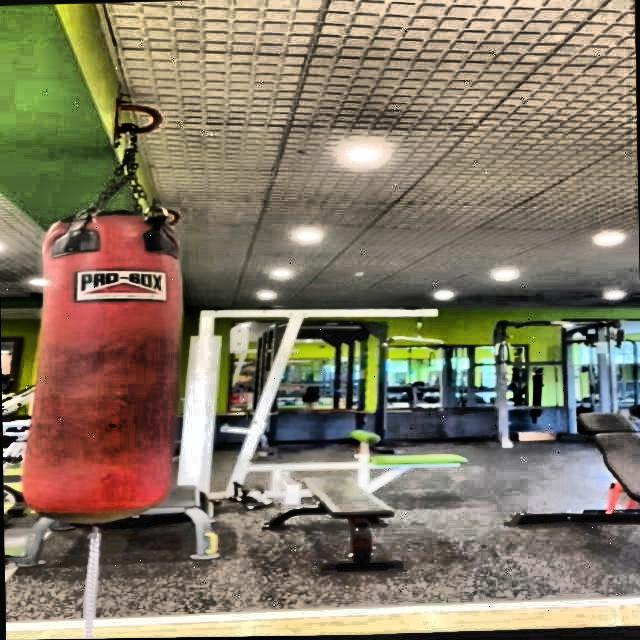boxing-bag: (26, 101, 188, 532)
